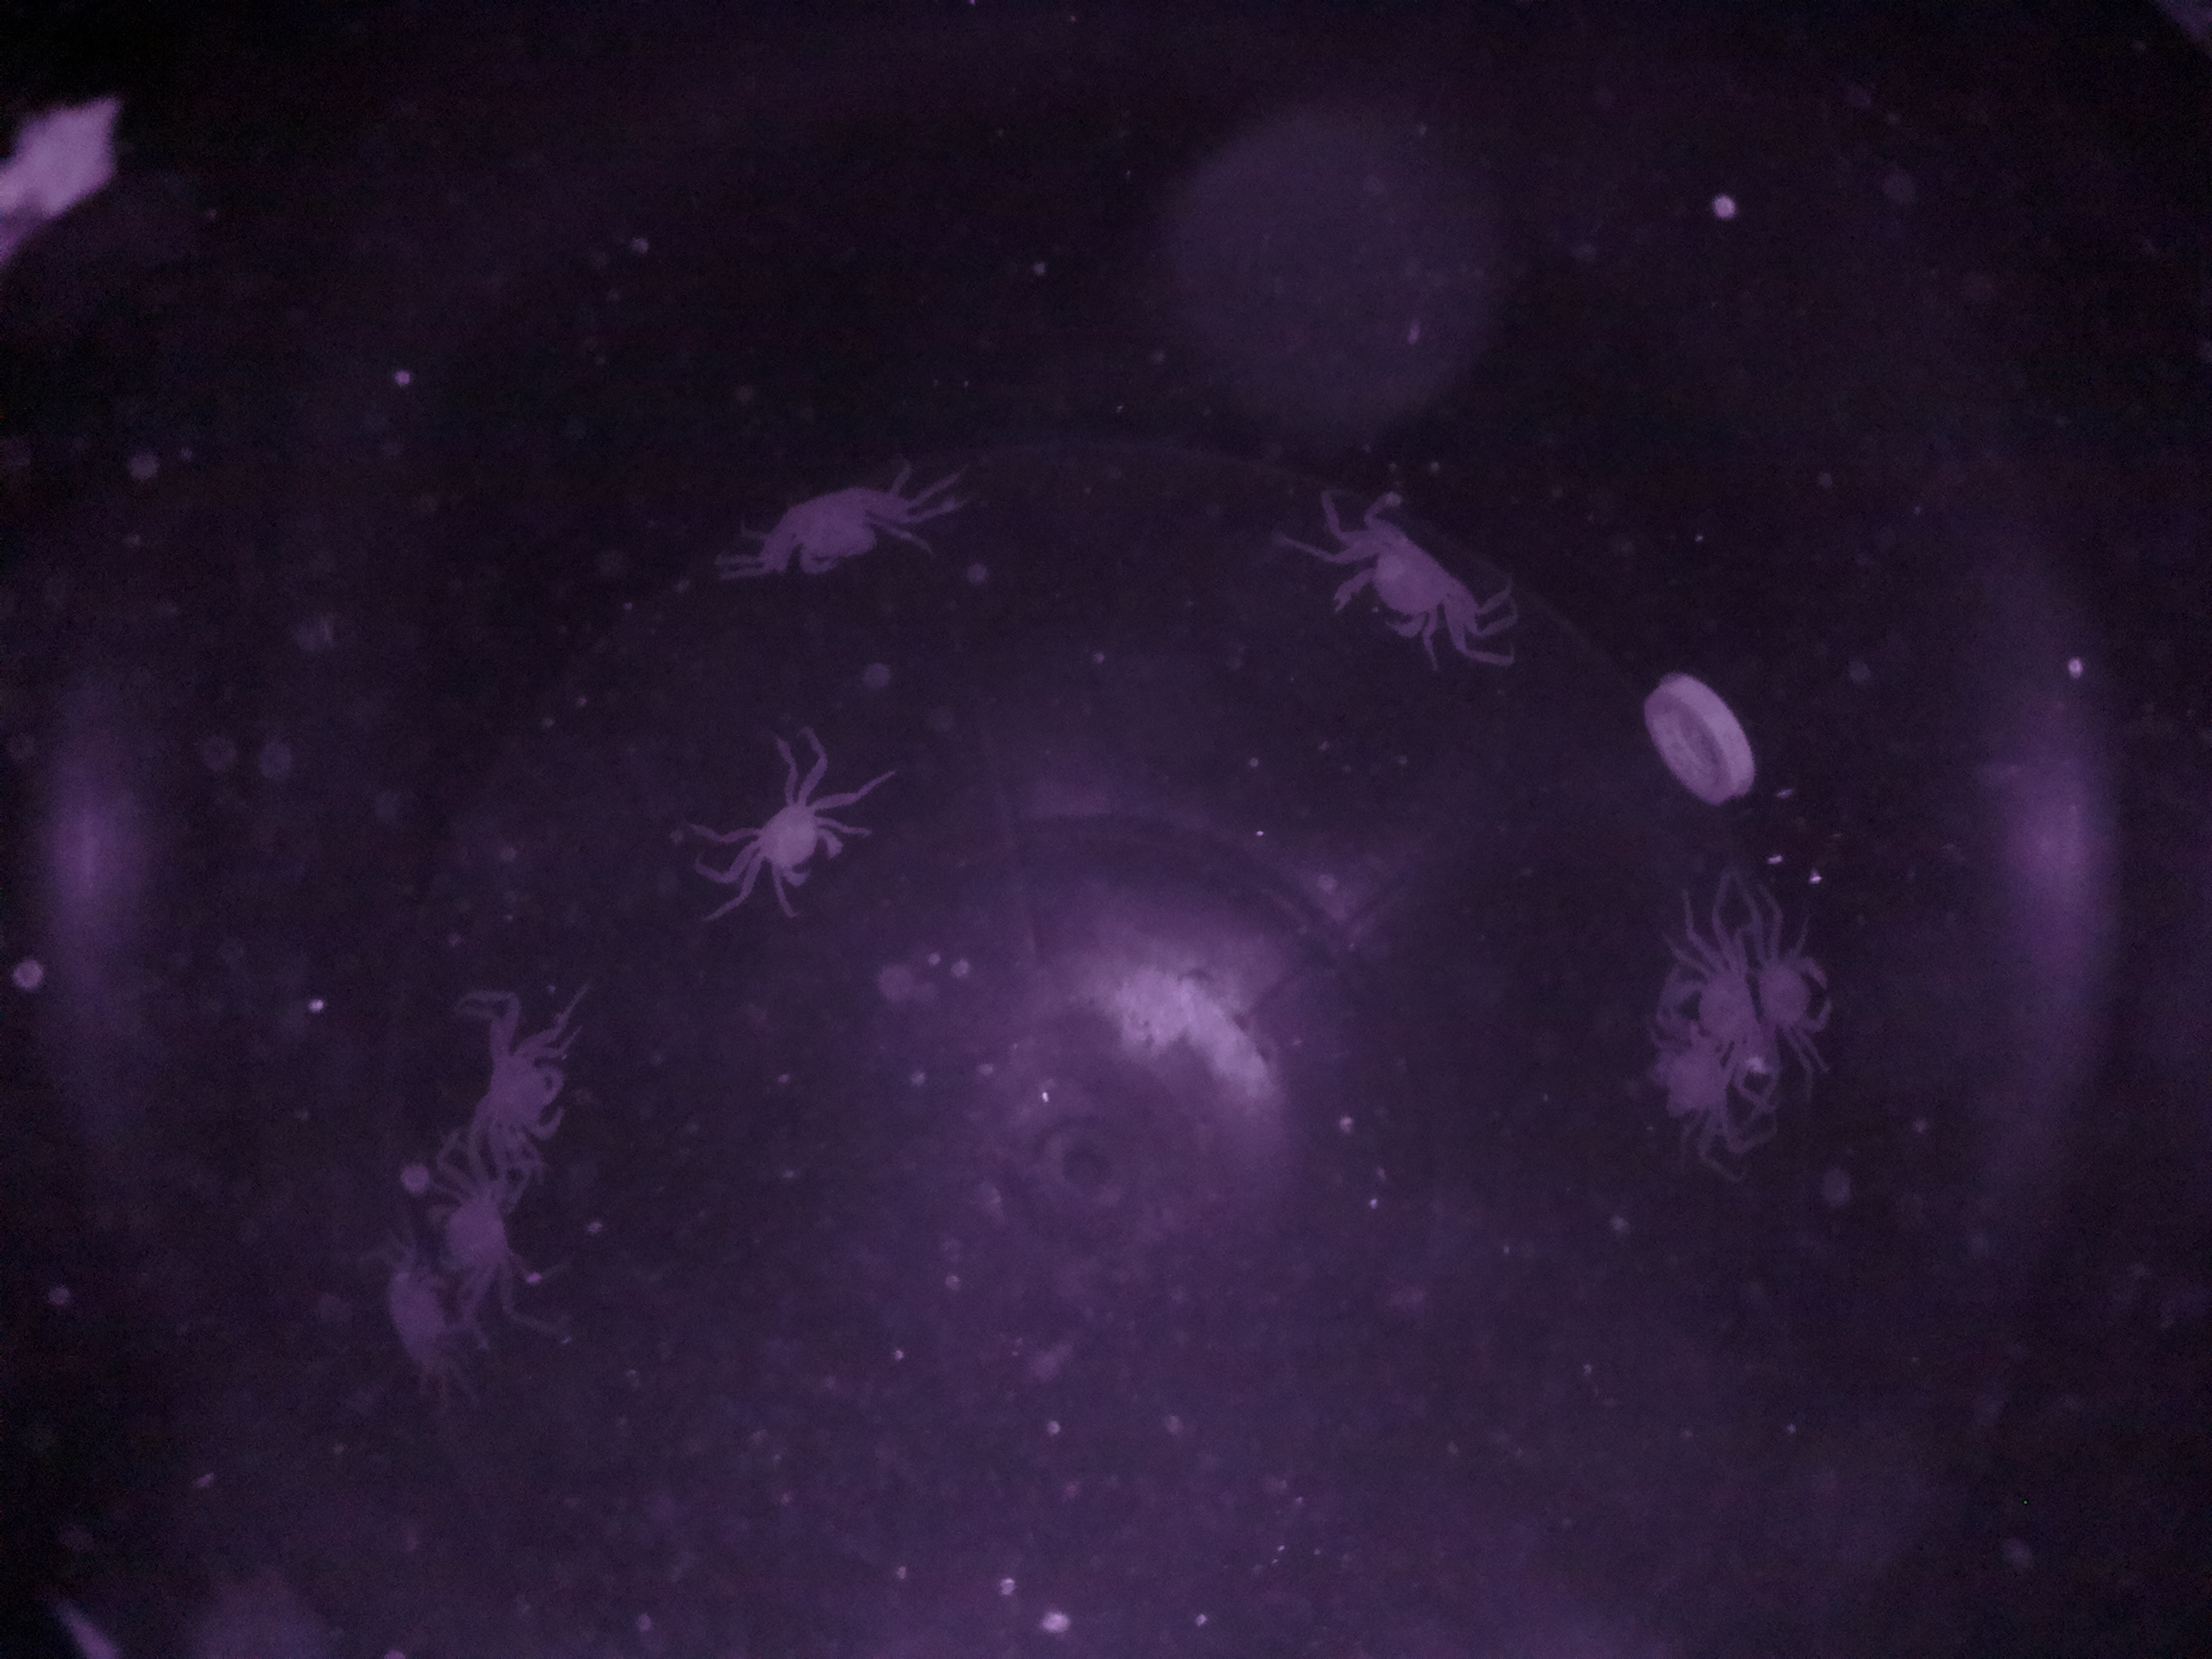Crab: (1289, 493, 1522, 664), (455, 990, 596, 1182), (747, 453, 920, 606), (709, 762, 859, 922), (1743, 882, 1848, 1093)
